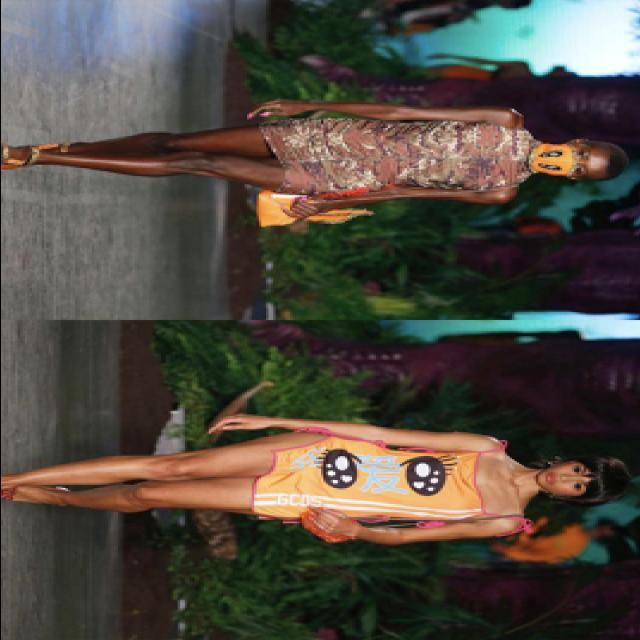with_mask: (538, 140, 592, 178)
without_mask: (538, 461, 592, 496)
